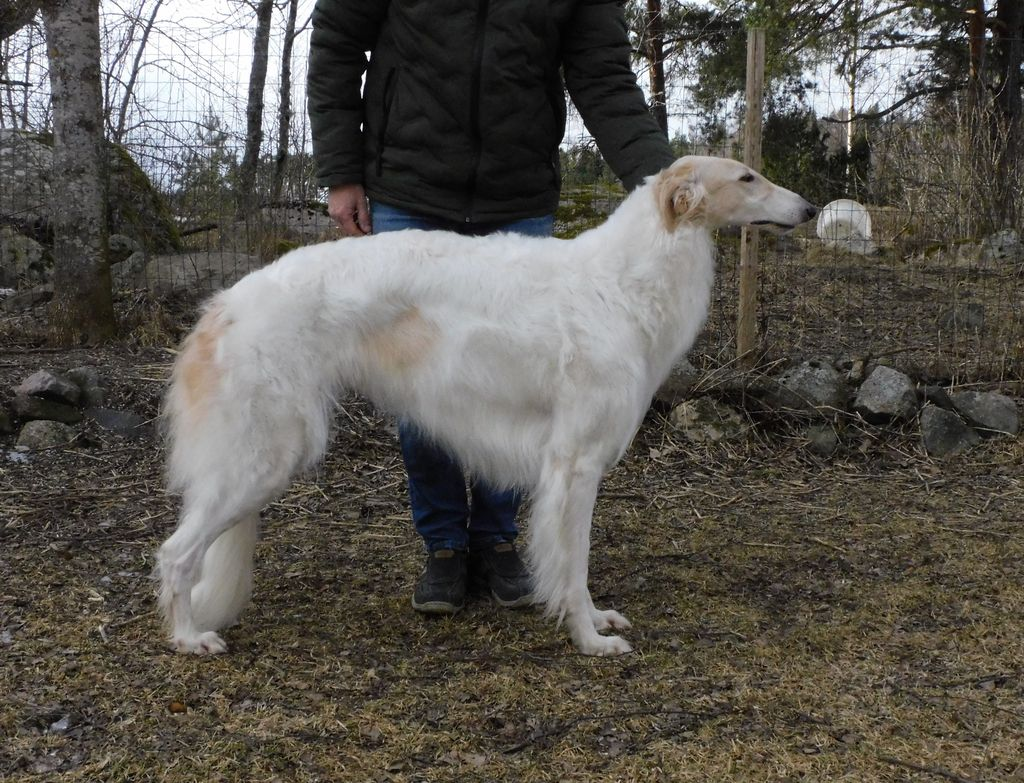borzoi: (135, 154, 839, 666)
